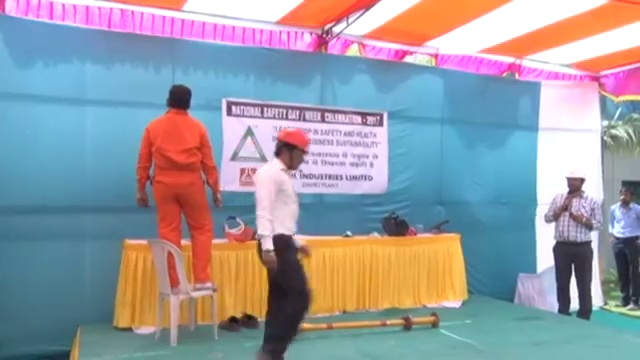helmet: (277, 125, 310, 153), (563, 167, 587, 180)
helmet_off: (167, 84, 192, 110), (618, 185, 632, 207)
helmet_on: (270, 126, 310, 174), (562, 167, 588, 197)
person: (136, 83, 225, 291), (252, 125, 312, 360), (544, 167, 599, 319), (607, 184, 640, 308)
